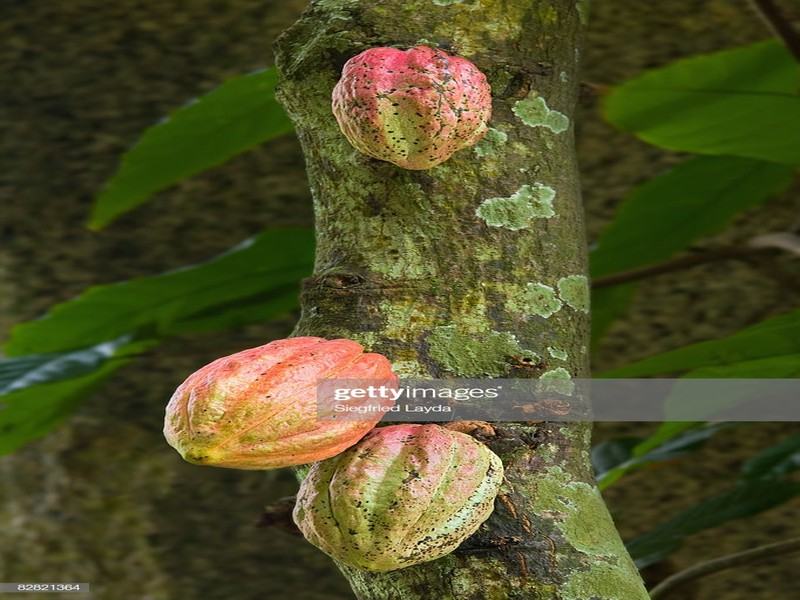Cacaopod: (293, 423, 505, 573), (161, 337, 397, 470), (332, 43, 496, 171)
